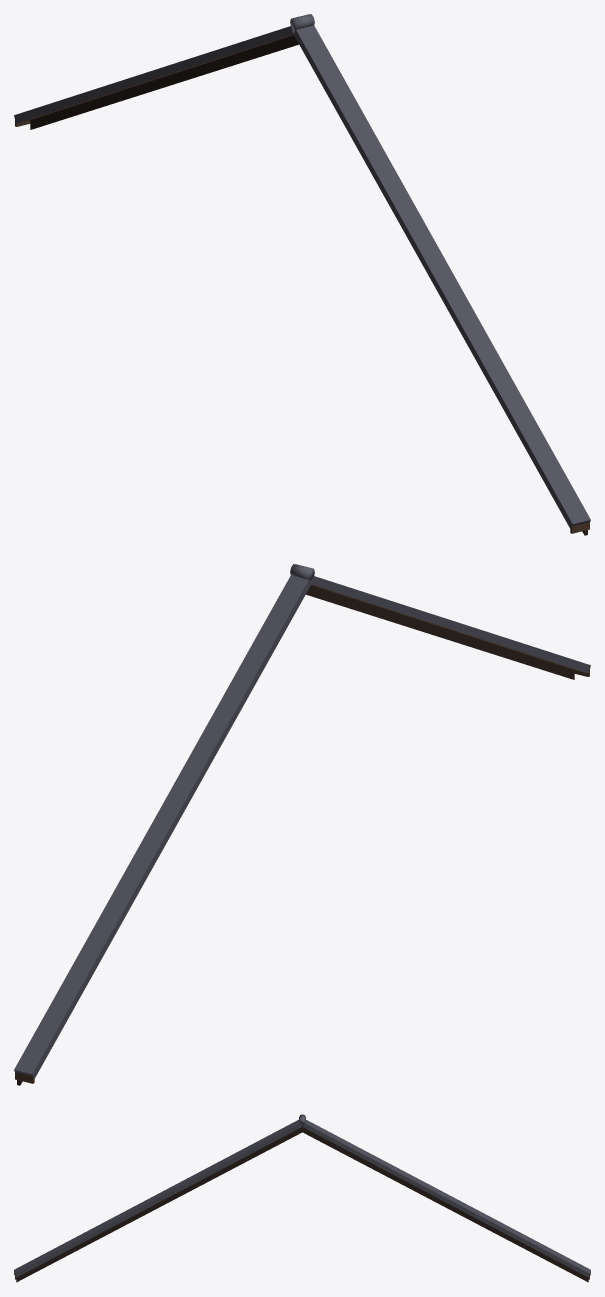
File: kit_timber_slate_w11_end.glb
3 renders of one model, top to bottom at view 1: azimuth 30°, elevation 25°; view 2: azimuth 150°, elevation 25°; view 3: azimuth 270°, elevation 25°, orthographic. The views are drawn at different scales.
Parts seen in each view (by area): view 1: kit_timber_slate_w11_end; view 2: kit_timber_slate_w11_end; view 3: kit_timber_slate_w11_end.
Part boxes in pixels (x1,y1,x2,y2): kit_timber_slate_w11_end: [14, 14, 590, 535]; kit_timber_slate_w11_end: [14, 564, 590, 1085]; kit_timber_slate_w11_end: [14, 1114, 590, 1282].
Bounding box in the file's own units: 0.22 × 3.67 × 11.69.
